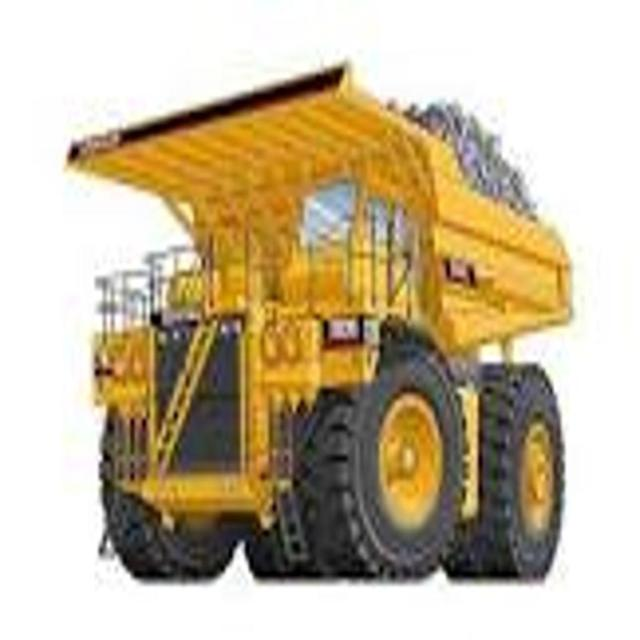dump_truck: (64, 64, 584, 597)
